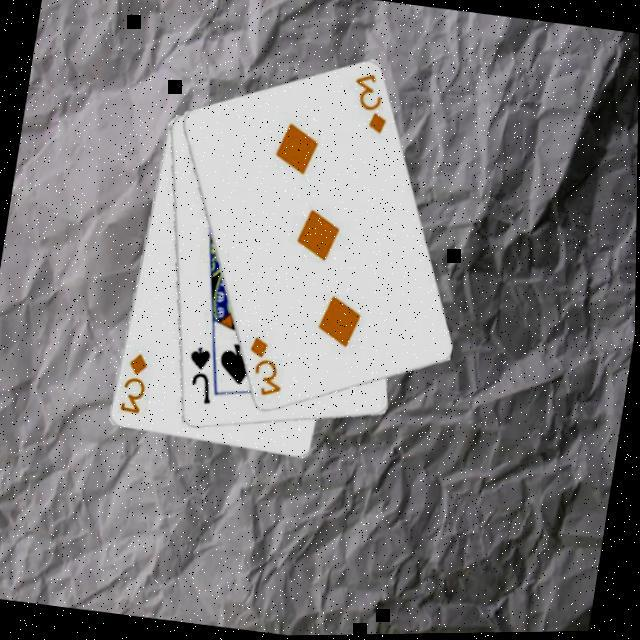3D: (239, 331, 292, 402), (344, 66, 396, 138), (115, 348, 154, 416)
JS: (180, 341, 221, 406)
